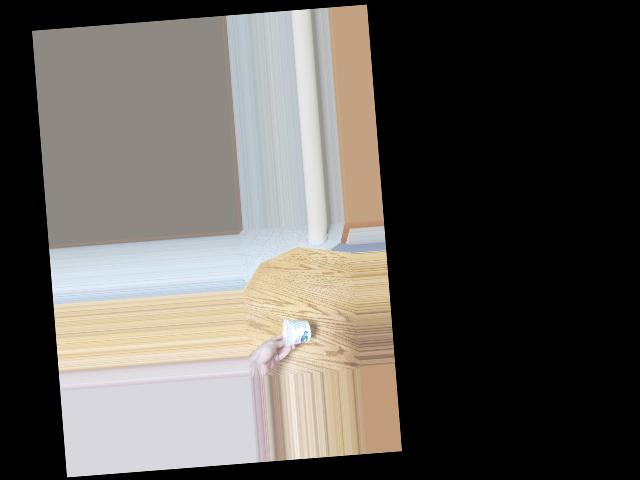cotage: (279, 310, 314, 345)
